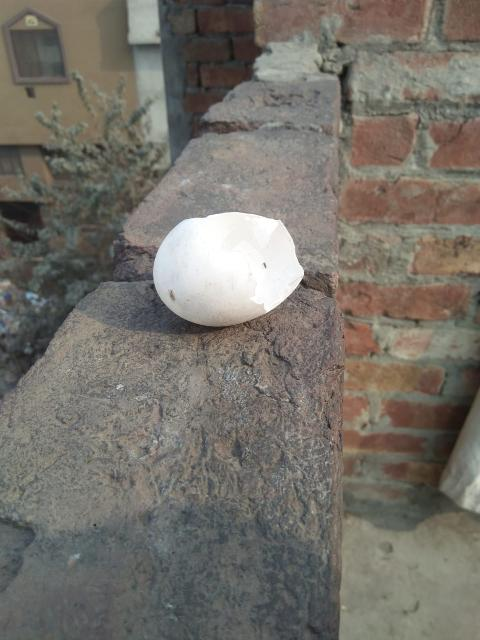Roto: (152, 210, 304, 328)
